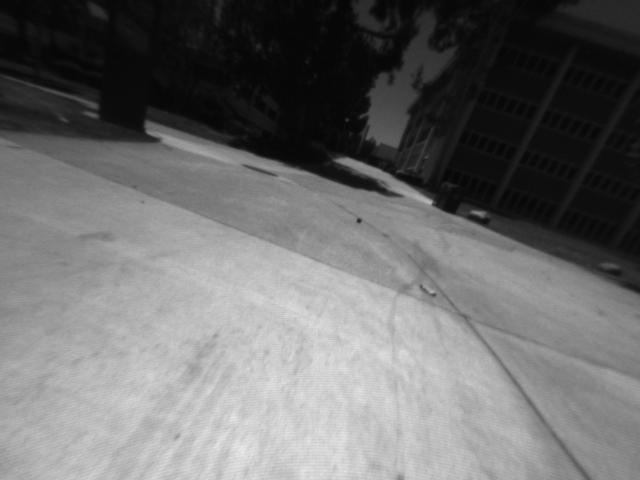dogtoy: (349, 210, 372, 229)
